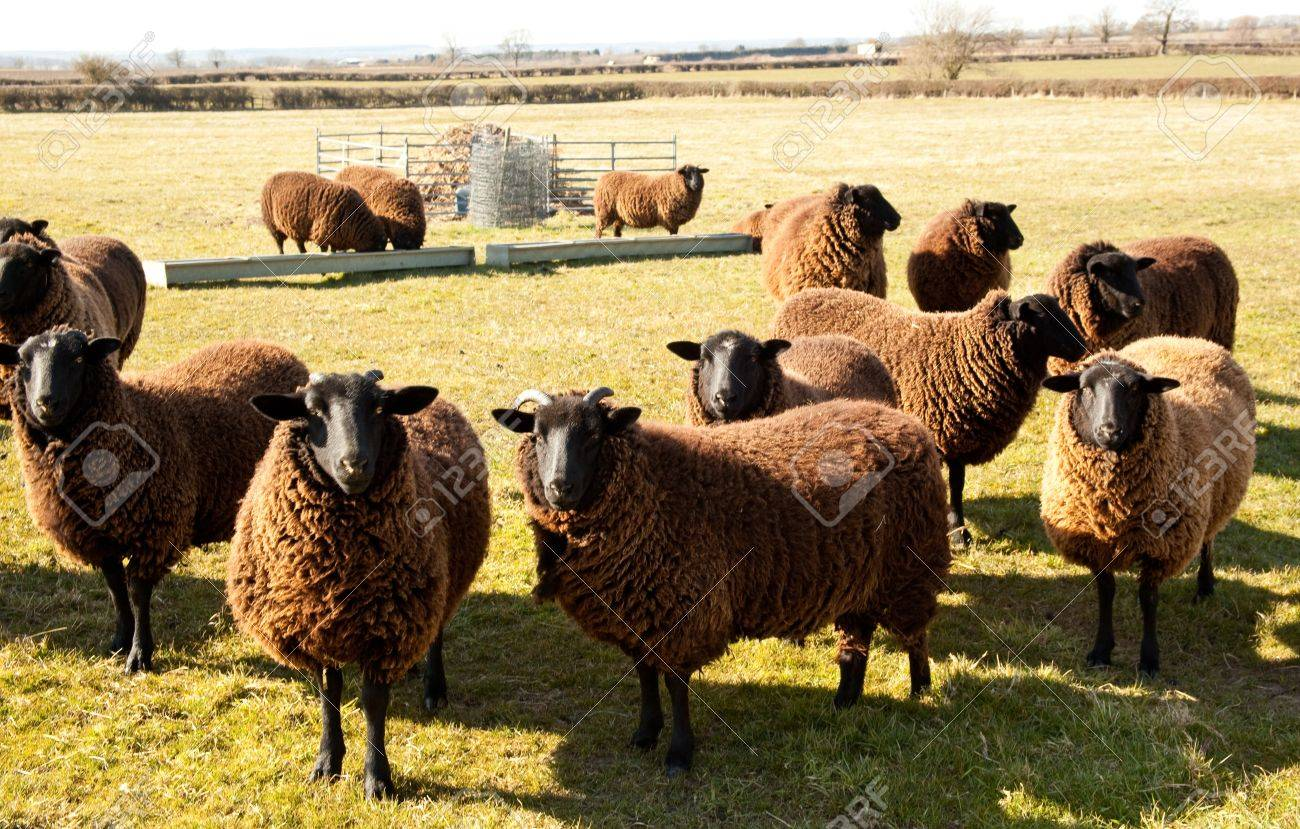sheep: (527, 393, 951, 746), (15, 320, 302, 669), (246, 367, 484, 769), (1066, 331, 1240, 675), (769, 267, 1051, 478), (1046, 229, 1253, 406), (758, 176, 889, 313), (1, 220, 142, 346), (567, 162, 718, 255), (920, 178, 1018, 316), (236, 173, 375, 266), (340, 164, 446, 258)
